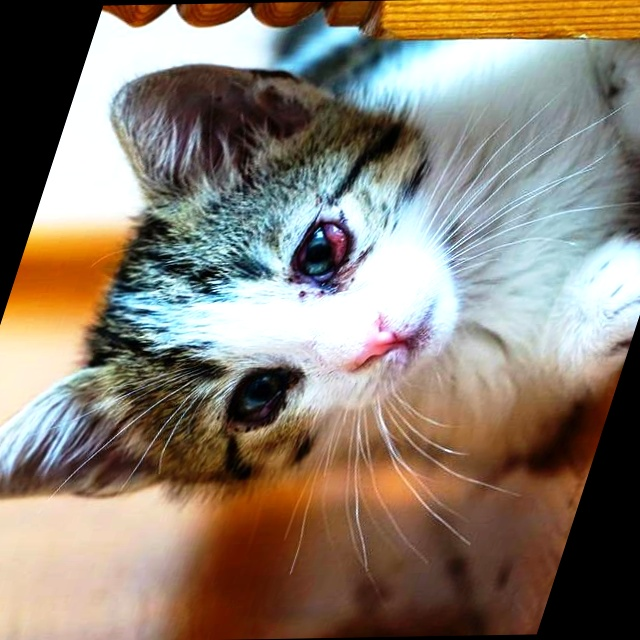eye_infection: (278, 212, 366, 295), (216, 368, 295, 422)
